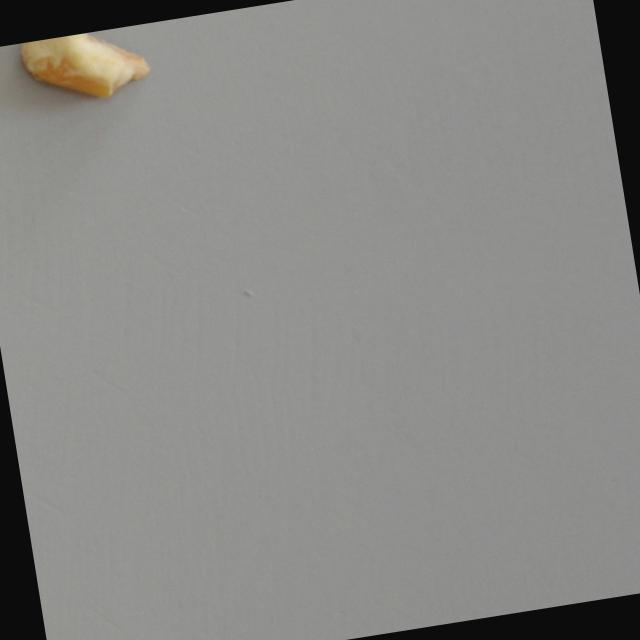dañado: (19, 24, 157, 114)
